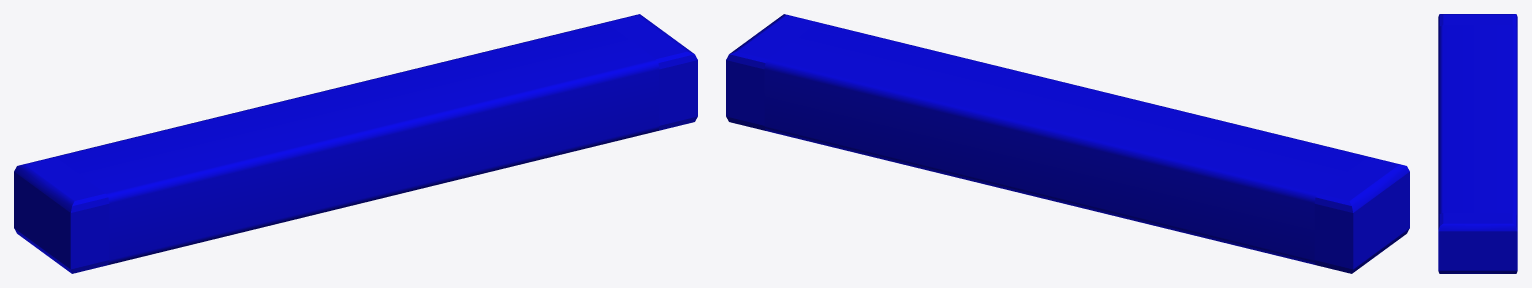
File: WallTopperTrim.fbx
3 views of the same model, side by side, from view 1: azimuth 30°, elevation 25°; view 2: azimuth 150°, elevation 25°; view 3: azimuth 270°, elevation 25° (orthographic). The views are drawn at different scales.
Parts seen in each view (by area): view 1: Mid, EndCap2, EndCap1; view 2: Mid, EndCap2, EndCap1; view 3: Mid, EndCap1, EndCap2.
Part boxes in pixels (x1=…): Mid: x1=55, y1=23, x2=659, y2=264; EndCap2: x1=14, y1=157, x2=109, y2=273; EndCap1: x1=604, y1=14, x2=697, y2=130; Mid: x1=764, y1=23, x2=1368, y2=264; EndCap2: x1=1314, y1=157, x2=1409, y2=273; EndCap1: x1=726, y1=14, x2=819, y2=130; Mid: x1=1438, y1=25, x2=1517, y2=216; EndCap1: x1=1438, y1=213, x2=1517, y2=273; EndCap2: x1=1438, y1=14, x2=1517, y2=29.
Size of the model in its own units: 6.84 by 0.7459 by 1.07.
